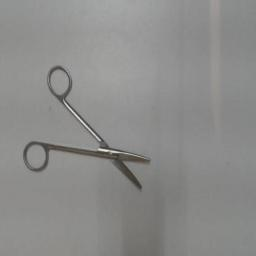Curved Mayo Scissors: (22, 61, 156, 197)
